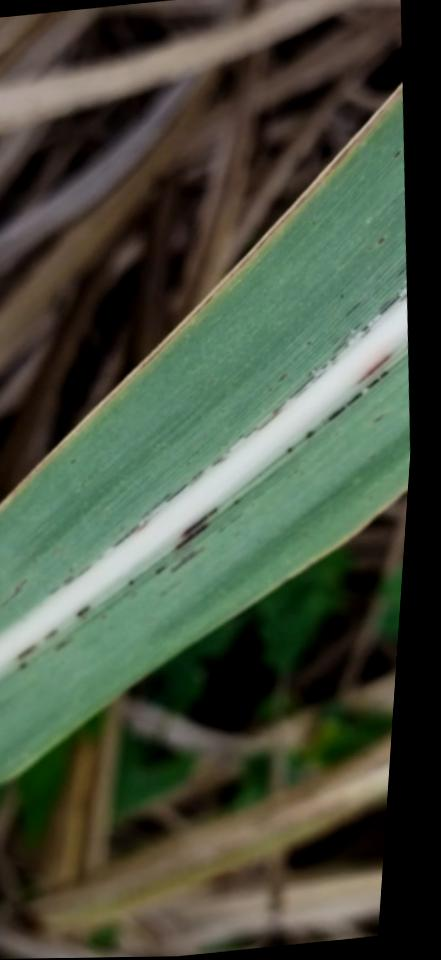RedRot: (354, 354, 392, 386)
Rust: (328, 294, 400, 363), (179, 506, 218, 539), (167, 546, 205, 574), (173, 523, 208, 552), (140, 492, 171, 521), (0, 578, 28, 609), (112, 523, 141, 549), (287, 375, 315, 401), (158, 578, 185, 599), (257, 410, 281, 432), (165, 483, 188, 503), (15, 643, 38, 661), (341, 323, 361, 342), (343, 300, 362, 319), (344, 391, 363, 408), (326, 406, 345, 422), (52, 639, 70, 655), (75, 564, 92, 580), (330, 340, 347, 356), (270, 400, 286, 416), (310, 370, 326, 385), (75, 603, 90, 618), (242, 426, 257, 441), (43, 628, 59, 642), (364, 378, 380, 392), (377, 298, 391, 313), (61, 575, 75, 588), (153, 564, 166, 577), (191, 469, 204, 482), (293, 387, 306, 400), (47, 585, 60, 597), (359, 328, 371, 340), (305, 366, 317, 378), (17, 661, 29, 672), (378, 369, 390, 380), (211, 456, 222, 468), (371, 414, 383, 425), (394, 266, 405, 278), (303, 429, 314, 440), (375, 235, 385, 247), (277, 372, 287, 383), (391, 148, 401, 159), (284, 446, 294, 455), (231, 497, 241, 506), (68, 457, 78, 465), (399, 292, 406, 303), (99, 613, 108, 621), (330, 359, 339, 366), (127, 579, 134, 587), (78, 615, 87, 621), (67, 567, 74, 574), (237, 434, 244, 441), (320, 363, 327, 370), (305, 340, 312, 346), (266, 386, 273, 392), (339, 293, 344, 300)
Yellow: (0, 82, 402, 509)
